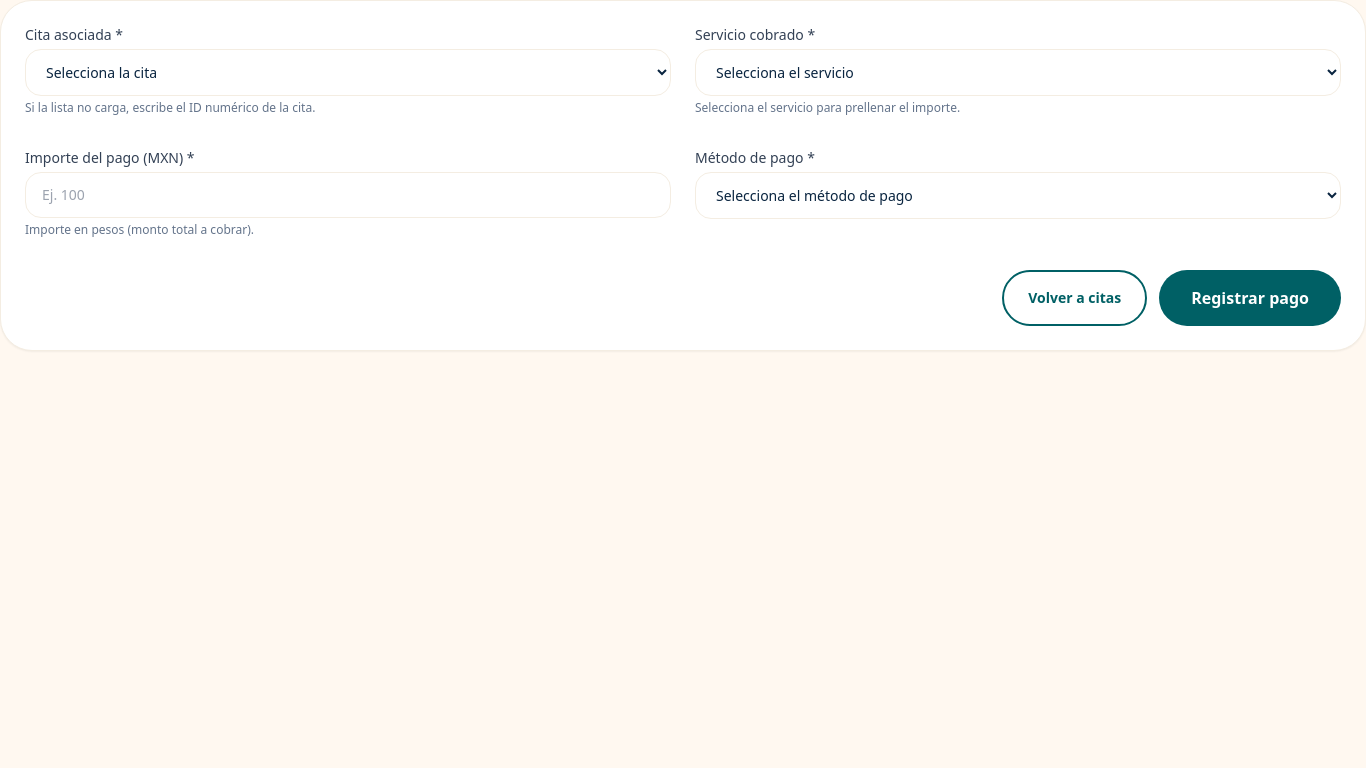
Scenario: FE-011-T05 estados UX del flujo de pagos › PaymentForm › submitting: boton deshabilitado y con aria-busy mientras envia
Expected: the field labelled "Importe del pago (MXN) *" is shown, [25,172,671,218]
Select "#3 · 24 ago 2026, 09:00 a.m. · Consulta · Mascota #5" in the dropdown labelled "Cita asociada *" at (348, 72), box [25,49,671,96]
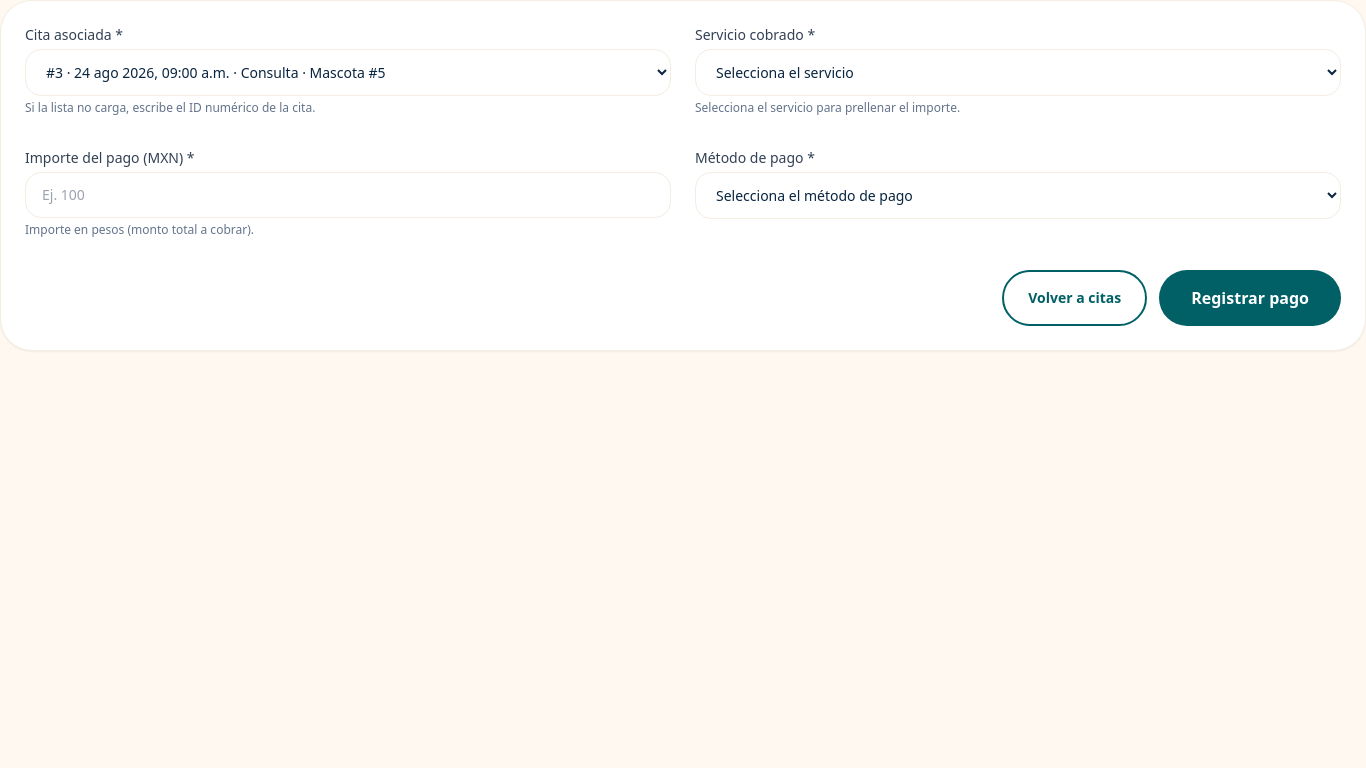
Select "Consulta general · $150 MXN" in the dropdown labelled "Servicio cobrado *" at (1018, 72), box [695,49,1341,96]
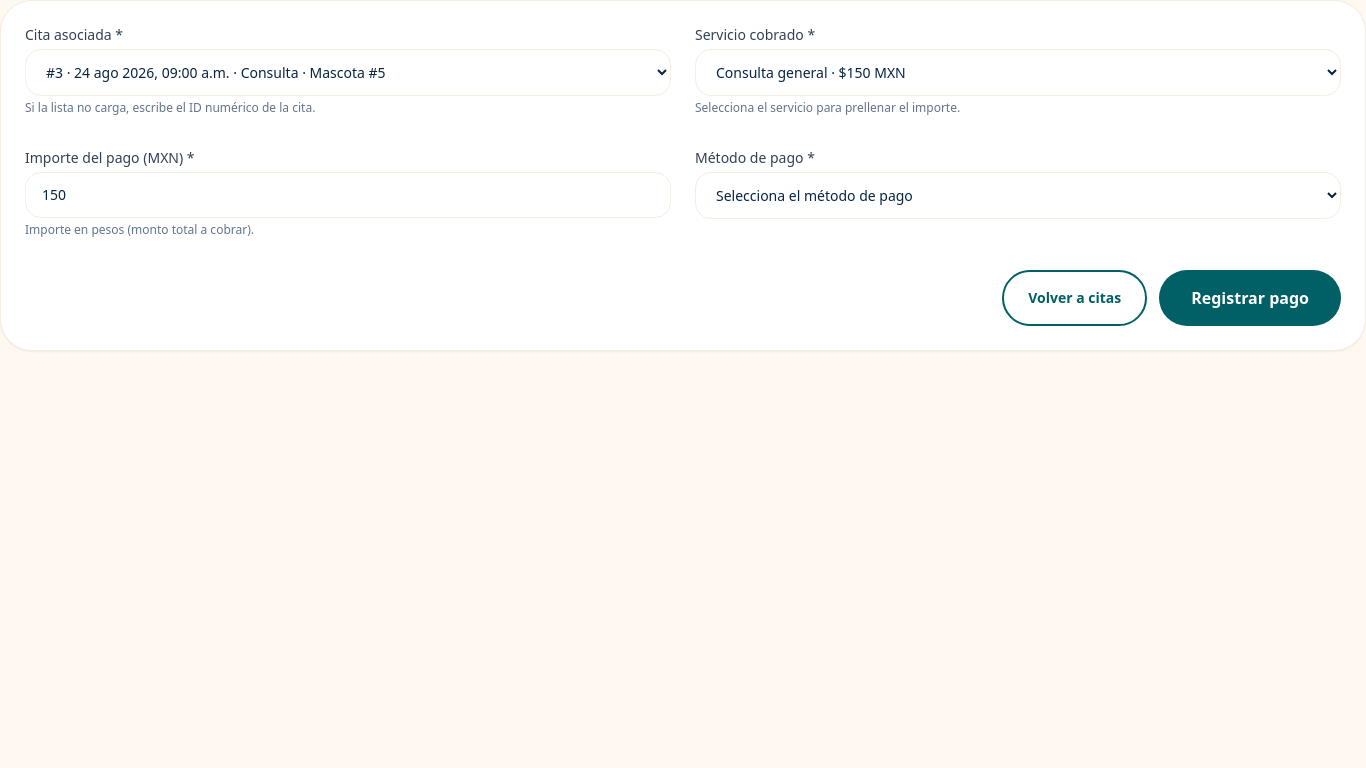
Expected: the field showing "150" is shown, [25,172,671,218]
Select "Efectivo" in the dropdown labelled "Método de pago *" at (1018, 196), box [695,172,1341,219]
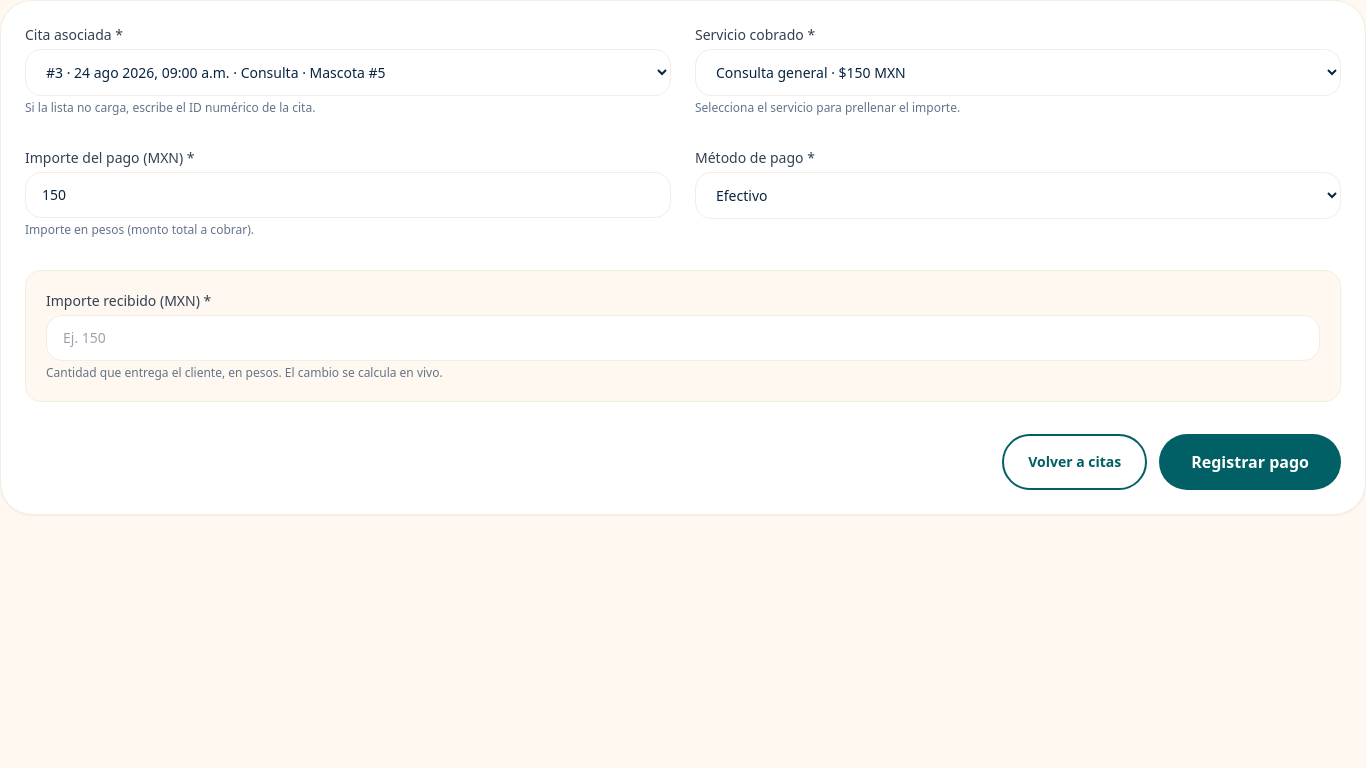
Expected: the field labelled "Importe recibido (MXN) *" is shown
Type "200" into the field labelled "Importe recibido (MXN) *" at (683, 338), box [46,315,1320,361]
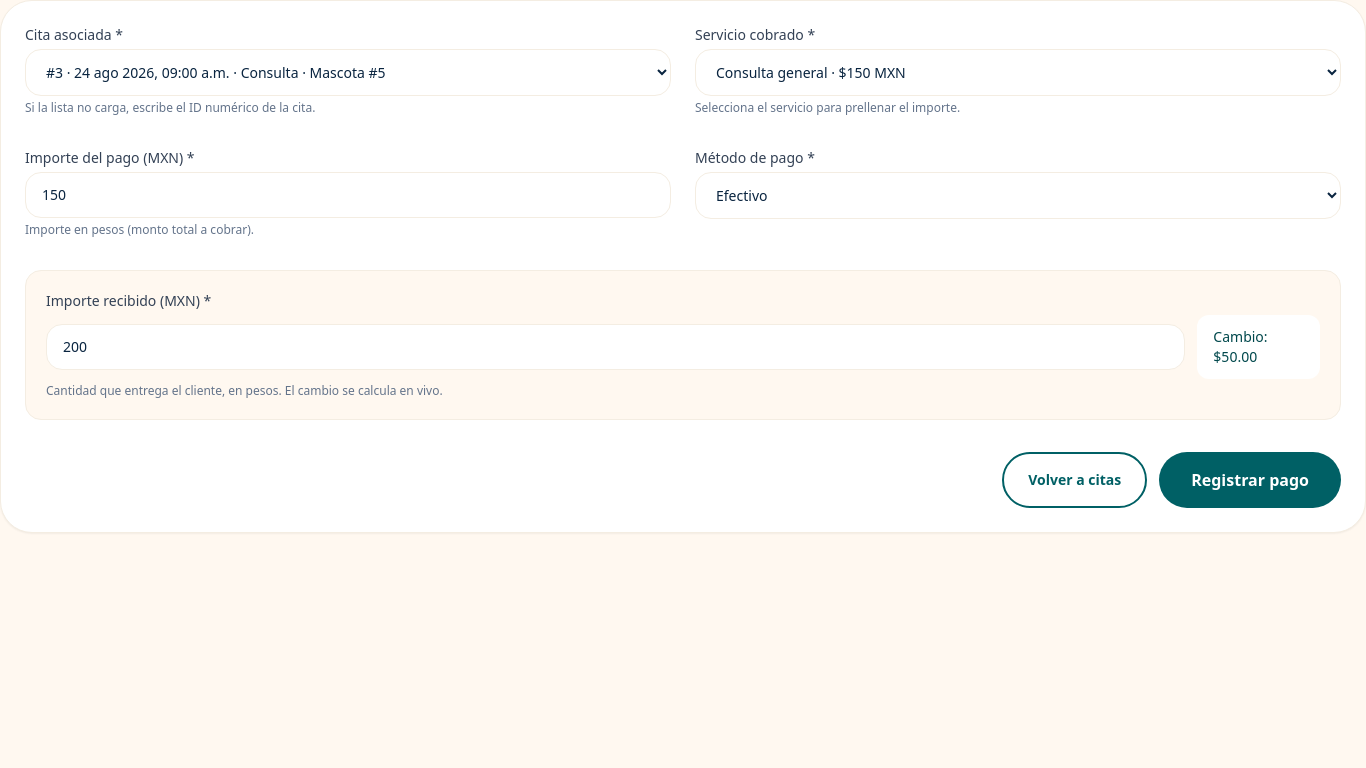
Click the button "Registrar pago" at (1250, 480), box [1159,452,1341,508]
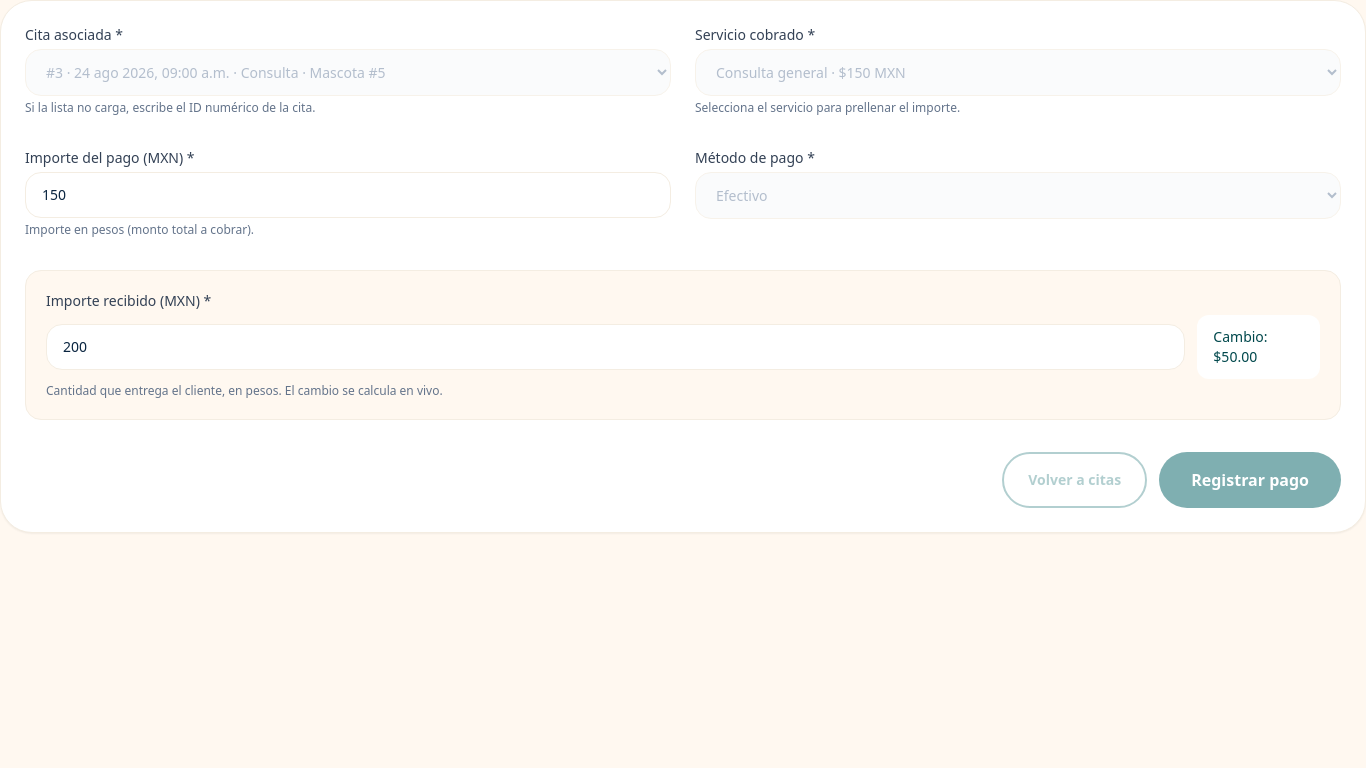
Expected: the button "Registrar pago" is disabled, [1159,452,1341,508]
